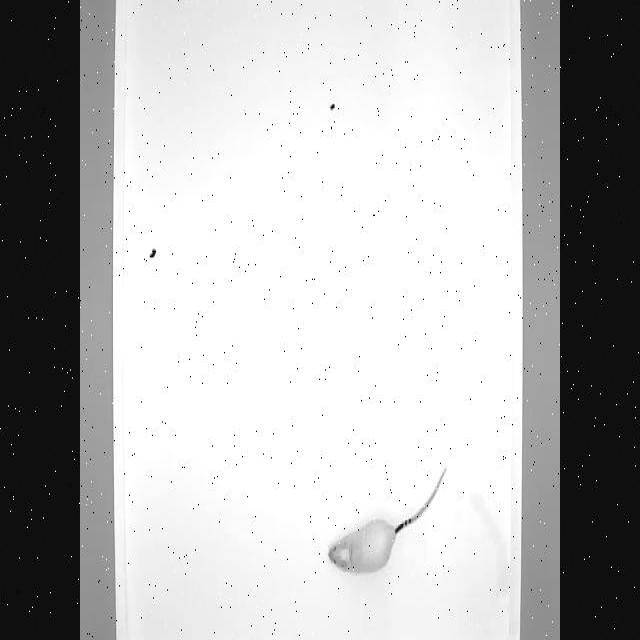rat: (326, 452, 448, 576)
